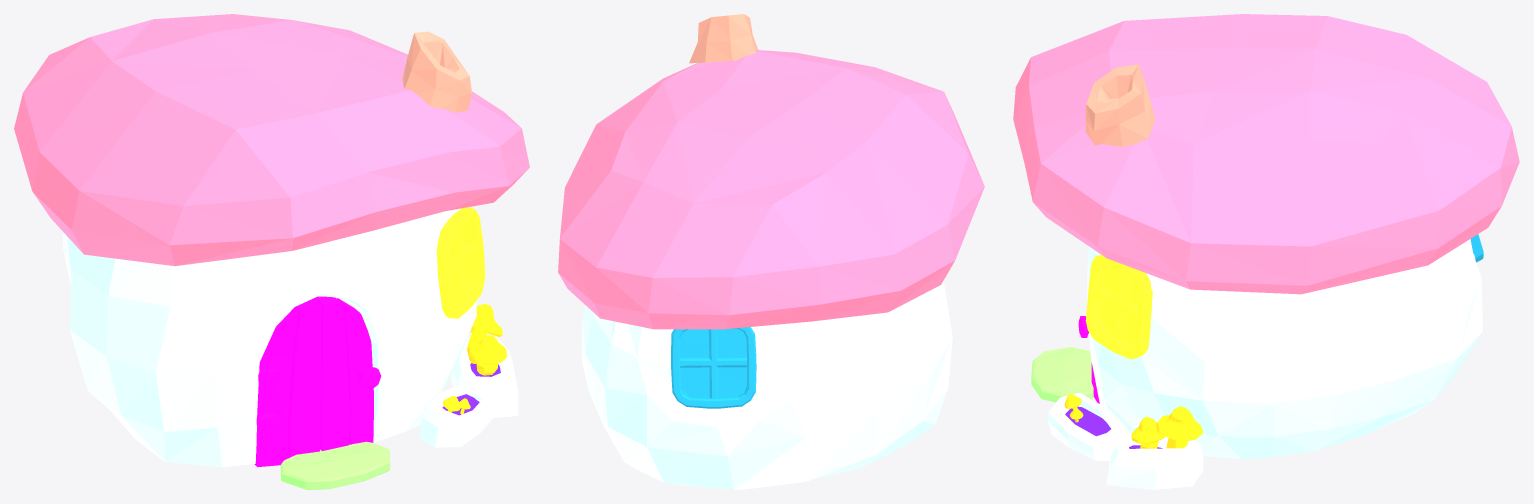
3 views of the same model, side by side, from view 1: azimuth 30°, elevation 25°; view 2: azimuth 150°, elevation 25°; view 3: azimuth 270°, elevation 25° (orthographic). The views are drawn at different scales.
Visible parts, largest first — view 1: part_8, part_0, part_2, part_3, part_4, part_1, part_9, part_6; view 2: part_8, part_0, part_7, part_1; view 3: part_8, part_0, part_3, part_4, part_1, part_9, part_6, part_5.
Boxes of the visible parts, left/top/right/bottom form: part_8: left=14, top=14, right=529, bottom=266; part_0: left=62, top=208, right=476, bottom=467; part_2: left=254, top=296, right=381, bottom=467; part_3: left=419, top=335, right=518, bottom=447; part_4: left=436, top=207, right=485, bottom=318; part_1: left=402, top=31, right=471, bottom=112; part_9: left=280, top=441, right=390, bottom=489; part_6: left=443, top=304, right=506, bottom=414; part_8: left=558, top=50, right=984, bottom=329; part_0: left=581, top=281, right=952, bottom=489; part_7: left=671, top=327, right=756, bottom=408; part_1: left=689, top=14, right=758, bottom=63; part_8: left=1013, top=14, right=1519, bottom=294; part_0: left=1087, top=239, right=1482, bottom=459; part_3: left=1048, top=393, right=1203, bottom=489; part_4: left=1085, top=254, right=1152, bottom=359; part_1: left=1085, top=64, right=1155, bottom=146; part_9: left=1031, top=347, right=1093, bottom=402; part_6: left=1064, top=394, right=1202, bottom=448; part_5: left=1065, top=406, right=1162, bottom=448.
Bounding box in the file's own units: 0.858 × 0.7751 × 0.9377.
